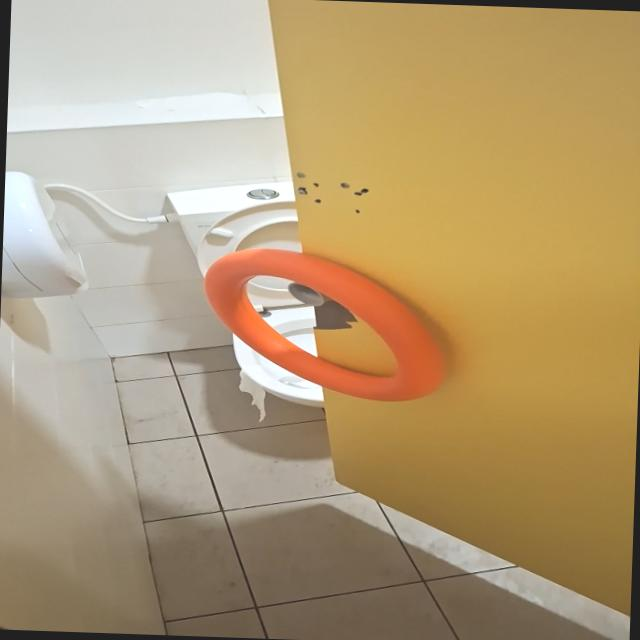note: (197, 243, 451, 405)
